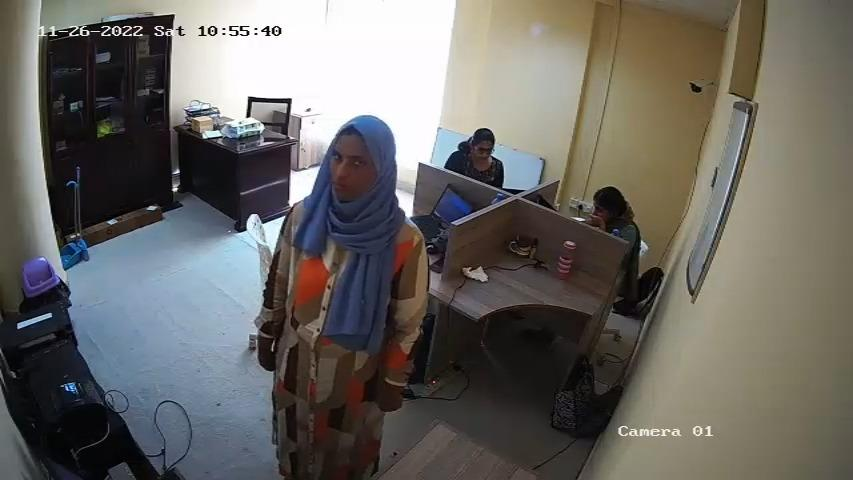no_apron: (283, 212, 373, 427)
